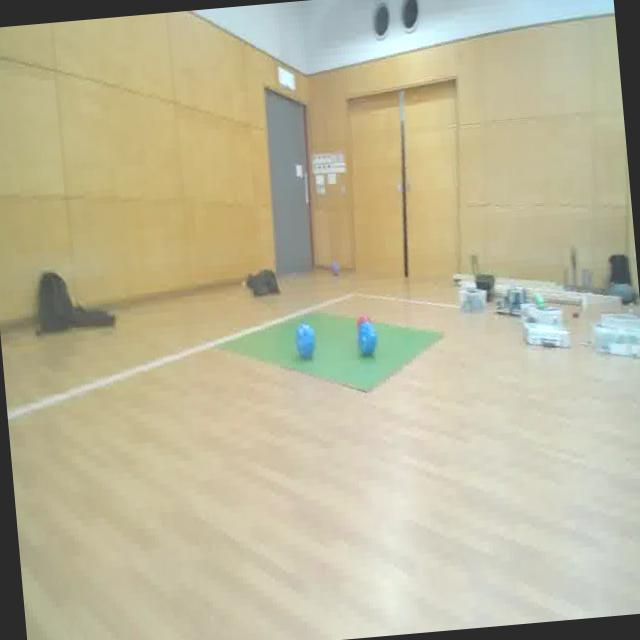blue_ball: (291, 318, 318, 361), (356, 320, 378, 356)
purple_ball: (330, 258, 341, 278)
